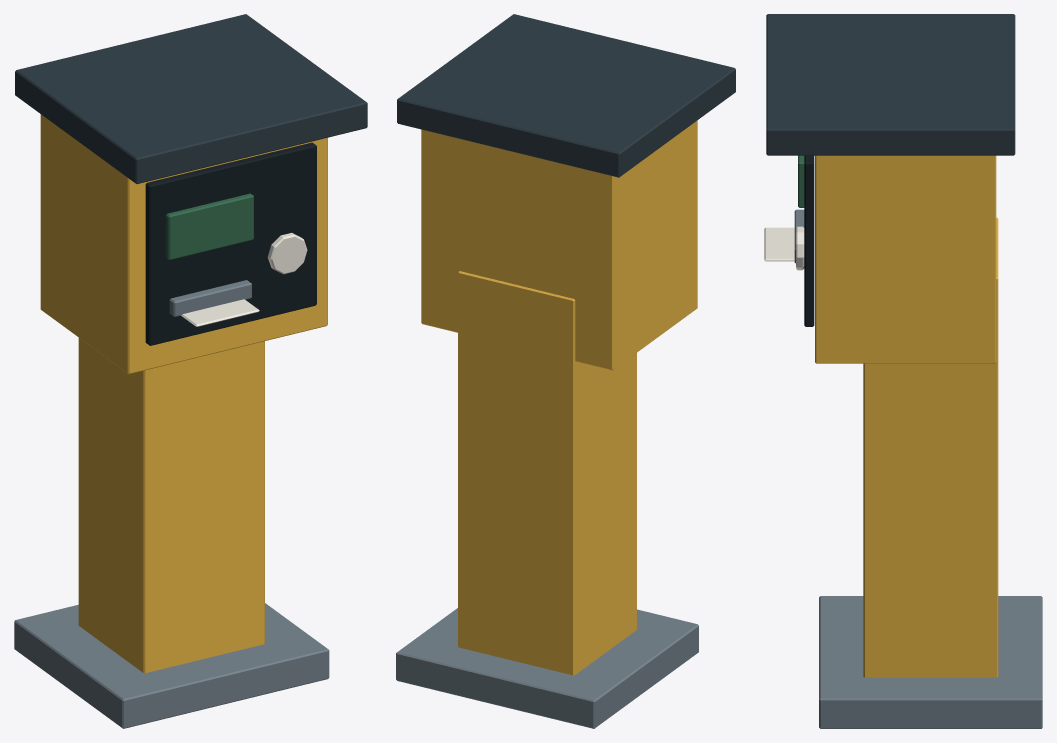
File: b02_parking_ticket_dispenser.glb
3 views of the same model, side by side, from view 1: azimuth 30°, elevation 25°; view 2: azimuth 150°, elevation 25°; view 3: azimuth 270°, elevation 25° (orthographic). The views are drawn at different scales.
Visible parts, largest first — view 1: b02_parking_ticket_dispenser; view 2: b02_parking_ticket_dispenser; view 3: b02_parking_ticket_dispenser.
Boxes of the visible parts, x1=… form: b02_parking_ticket_dispenser: x1=14, y1=14, x2=367, y2=728; b02_parking_ticket_dispenser: x1=396, y1=14, x2=735, y2=728; b02_parking_ticket_dispenser: x1=764, y1=14, x2=1042, y2=728.
Size of the model in its own units: 0.65 by 1.59 by 0.66.
